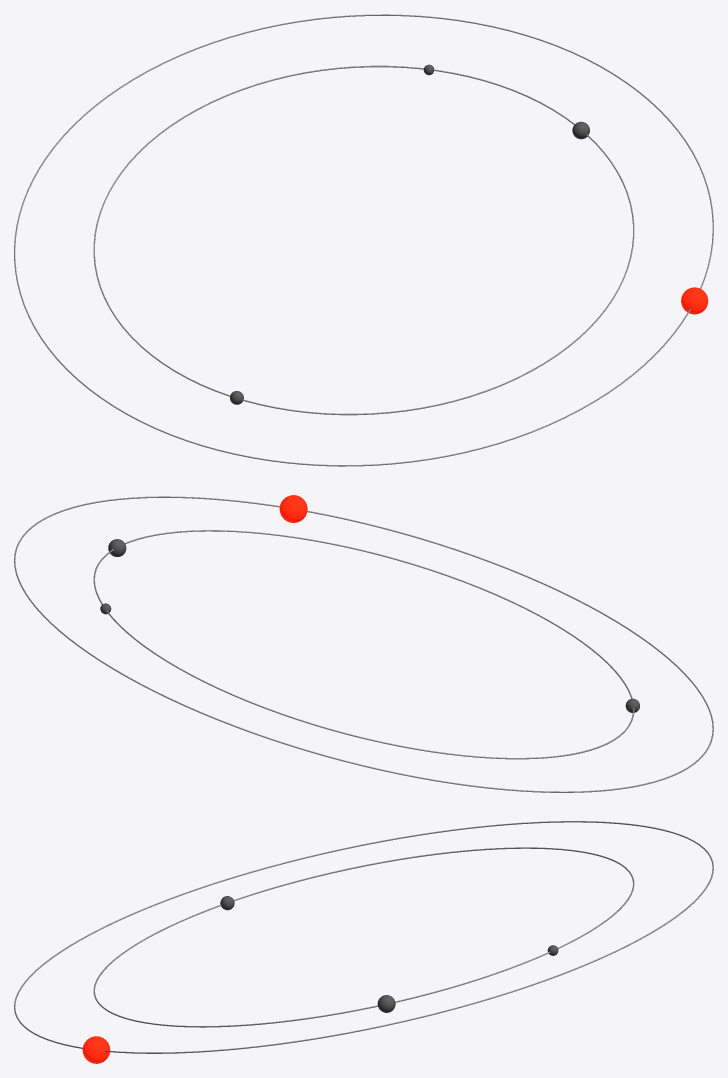
File: orbits-BWfqSxhP.glb
3 renders of one model, top to bottom at view 1: azimuth 30°, elevation 25°; view 2: azimuth 150°, elevation 25°; view 3: azimuth 270°, elevation 25°, orthographic. The views are drawn at different scales.
Parts seen in each view (by area): view 1: sm_orbit_1, sm_orbit_2; view 2: sm_orbit_1, sm_orbit_2, Icosphere.004; view 3: sm_orbit_1, sm_orbit_2, Icosphere.004.
Boxes of the visible parts, x1,y1,x2,y2 form: sm_orbit_1: (14, 14, 713, 466); sm_orbit_2: (93, 65, 634, 415); sm_orbit_1: (14, 496, 713, 792); sm_orbit_2: (93, 530, 634, 759); Icosphere.004: (279, 495, 307, 522); sm_orbit_1: (14, 821, 713, 1053); sm_orbit_2: (93, 847, 634, 1027); Icosphere.004: (82, 1036, 110, 1063).
Size of the model in its own units: 4.65 by 1.25 by 4.62.
